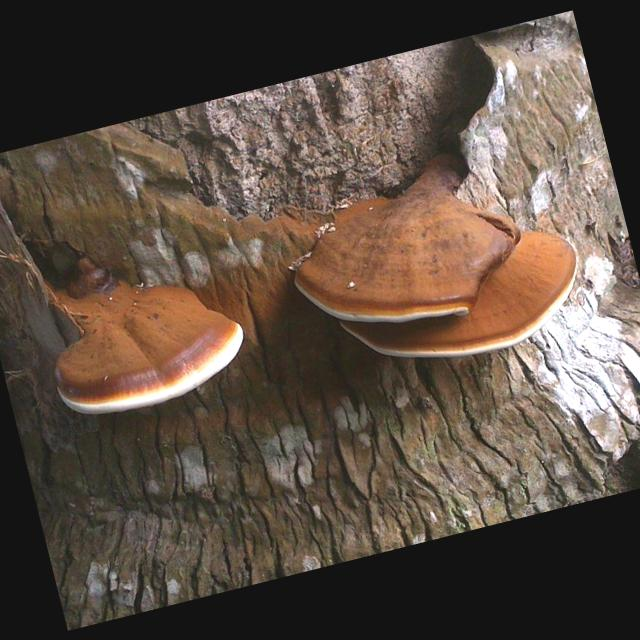ganoderma: (277, 162, 540, 358), (326, 218, 596, 387), (37, 265, 257, 429)
